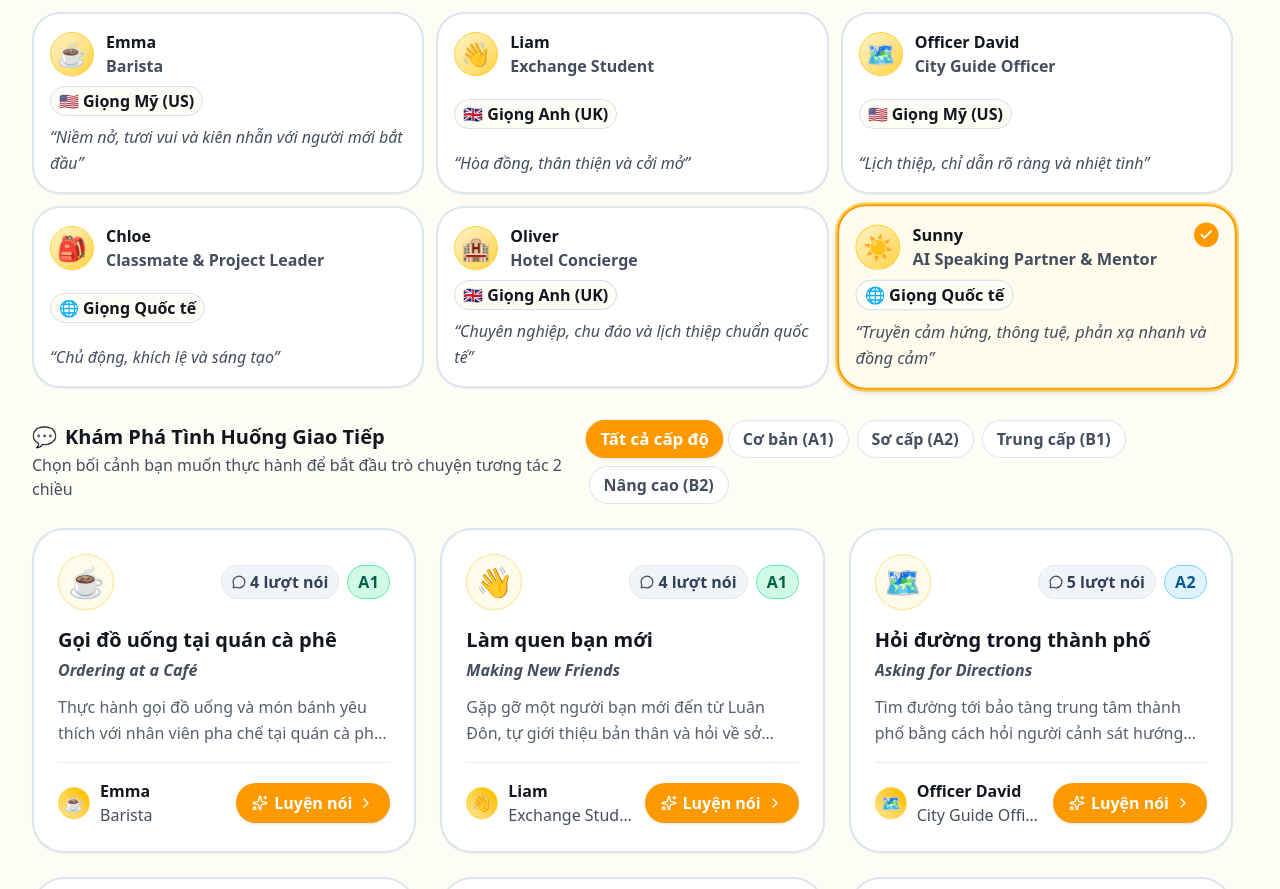
Test: SpeakingHubPage (/speaking) › filters scenarios when CEFR filter chip is clicked
(page scrolled)
Expected: the button with test id "scenario-card-ordering-cafe" is shown, [32, 528, 416, 853]
// Click A1 filter
Step 1. Click the button with test id "filter-a1" → (788, 439), box [728, 420, 848, 458]
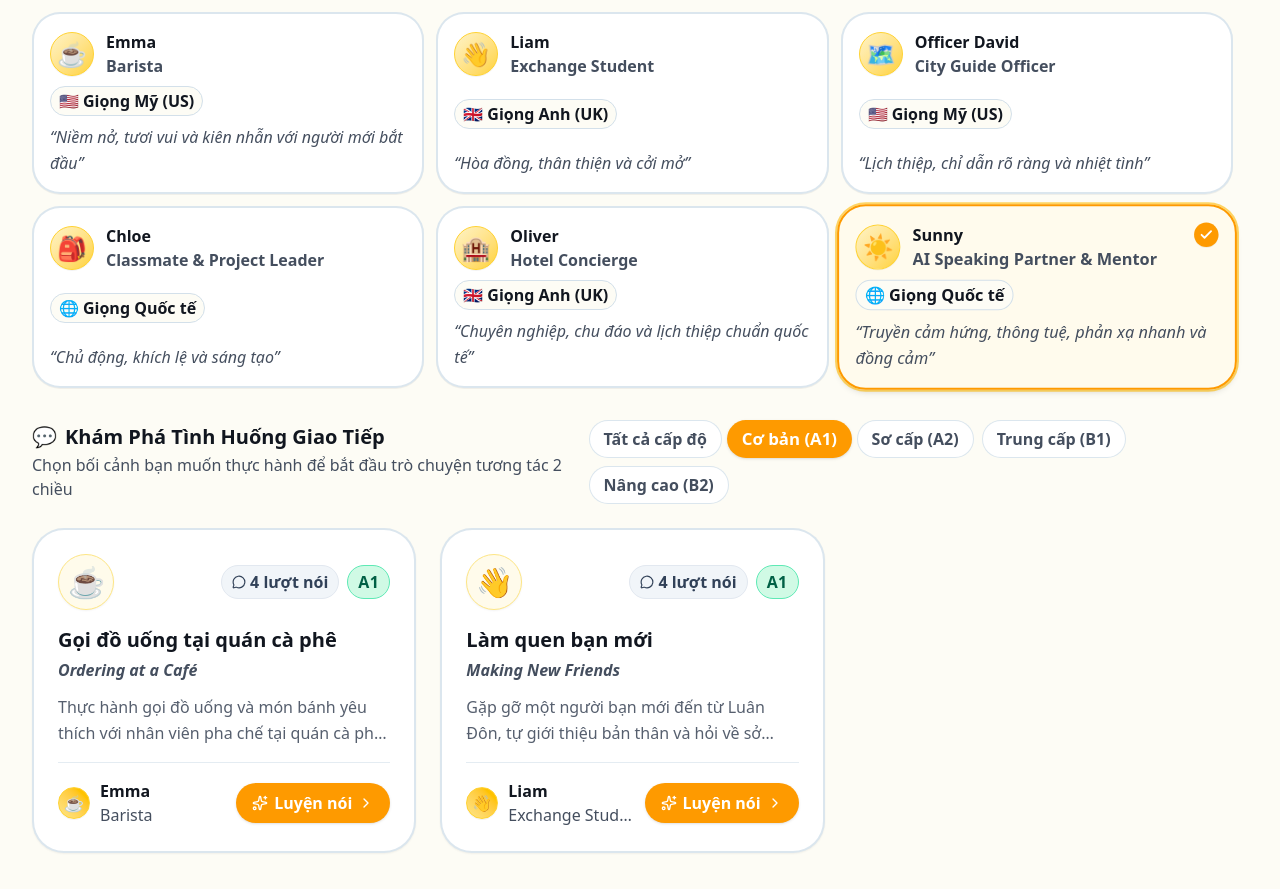
Expected: the button with test id "scenario-card-ordering-cafe" is shown, [32, 528, 416, 853]
// Click B1 filter
Step 2. Click the button with test id "filter-b1" → (1054, 439), box [982, 420, 1126, 458]
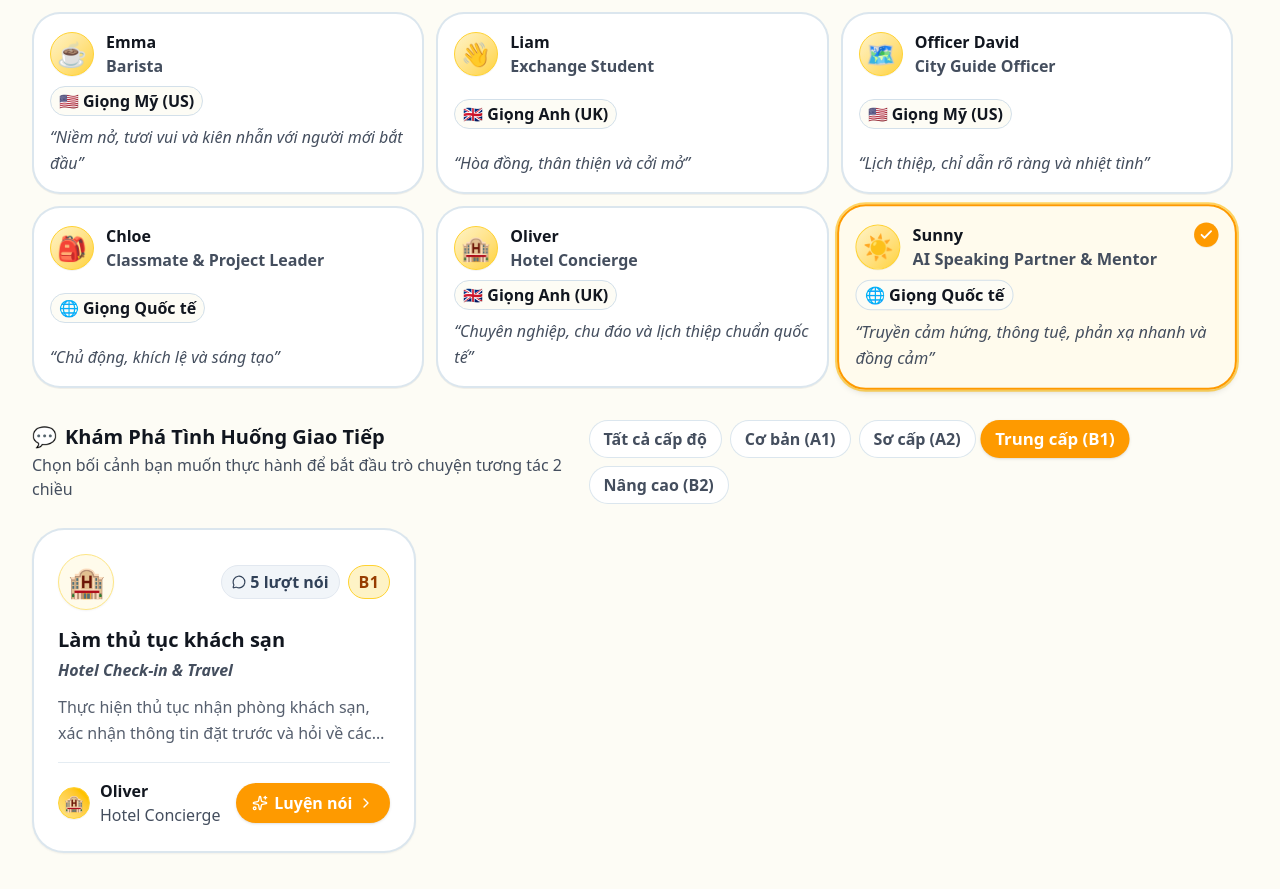
Expected: the button with test id "scenario-card-ordering-cafe" is gone
Expected: the button with test id "scenario-card-hotel-checkin" is shown, [32, 528, 416, 853]
// Click all filter to restore
Step 3. Click the button with test id "filter-all" → (655, 439), box [589, 420, 722, 458]
(page scrolled)
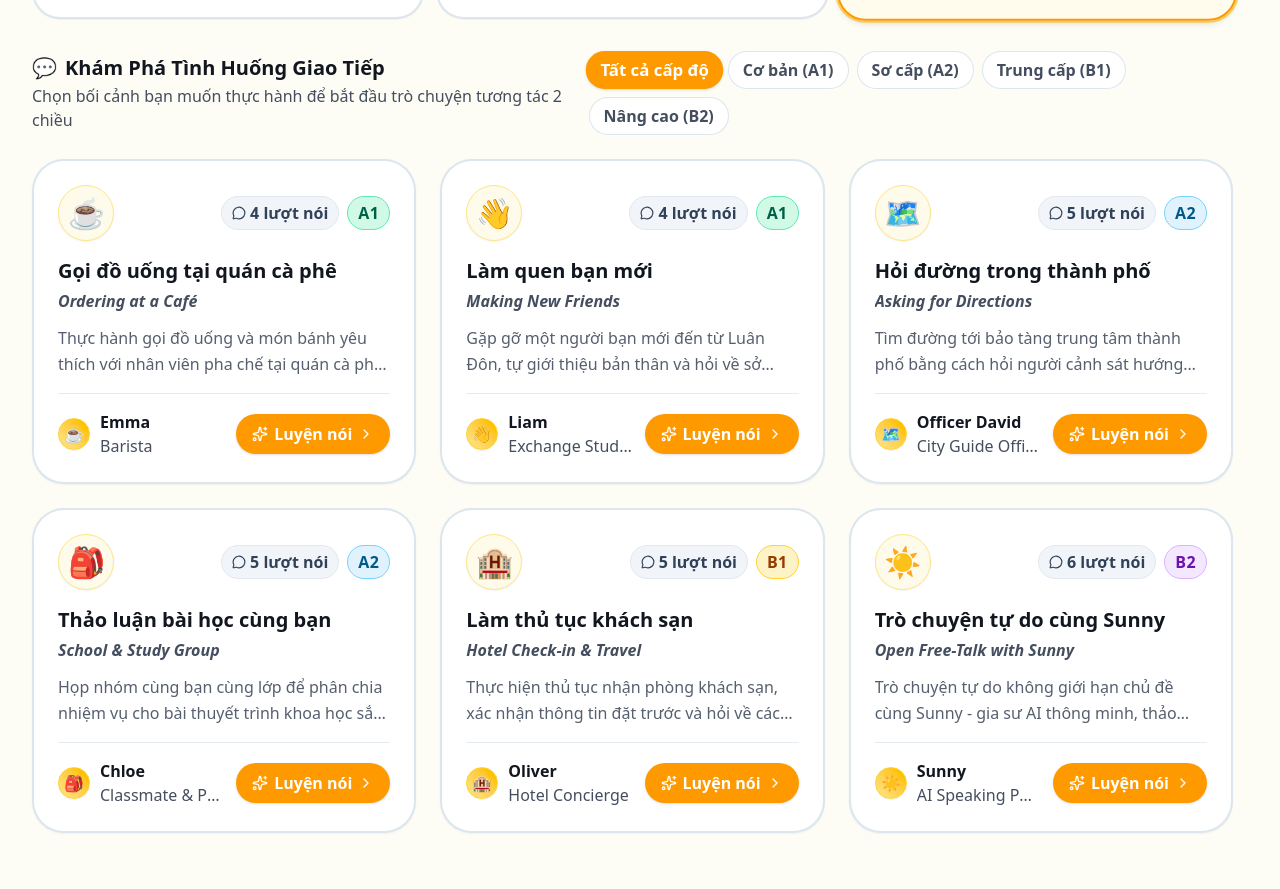
Expected: the button with test id "scenario-card-hotel-checkin" is shown, [440, 508, 825, 833]
Expected: the button with test id "scenario-card-ordering-cafe" is shown, [32, 159, 416, 484]
